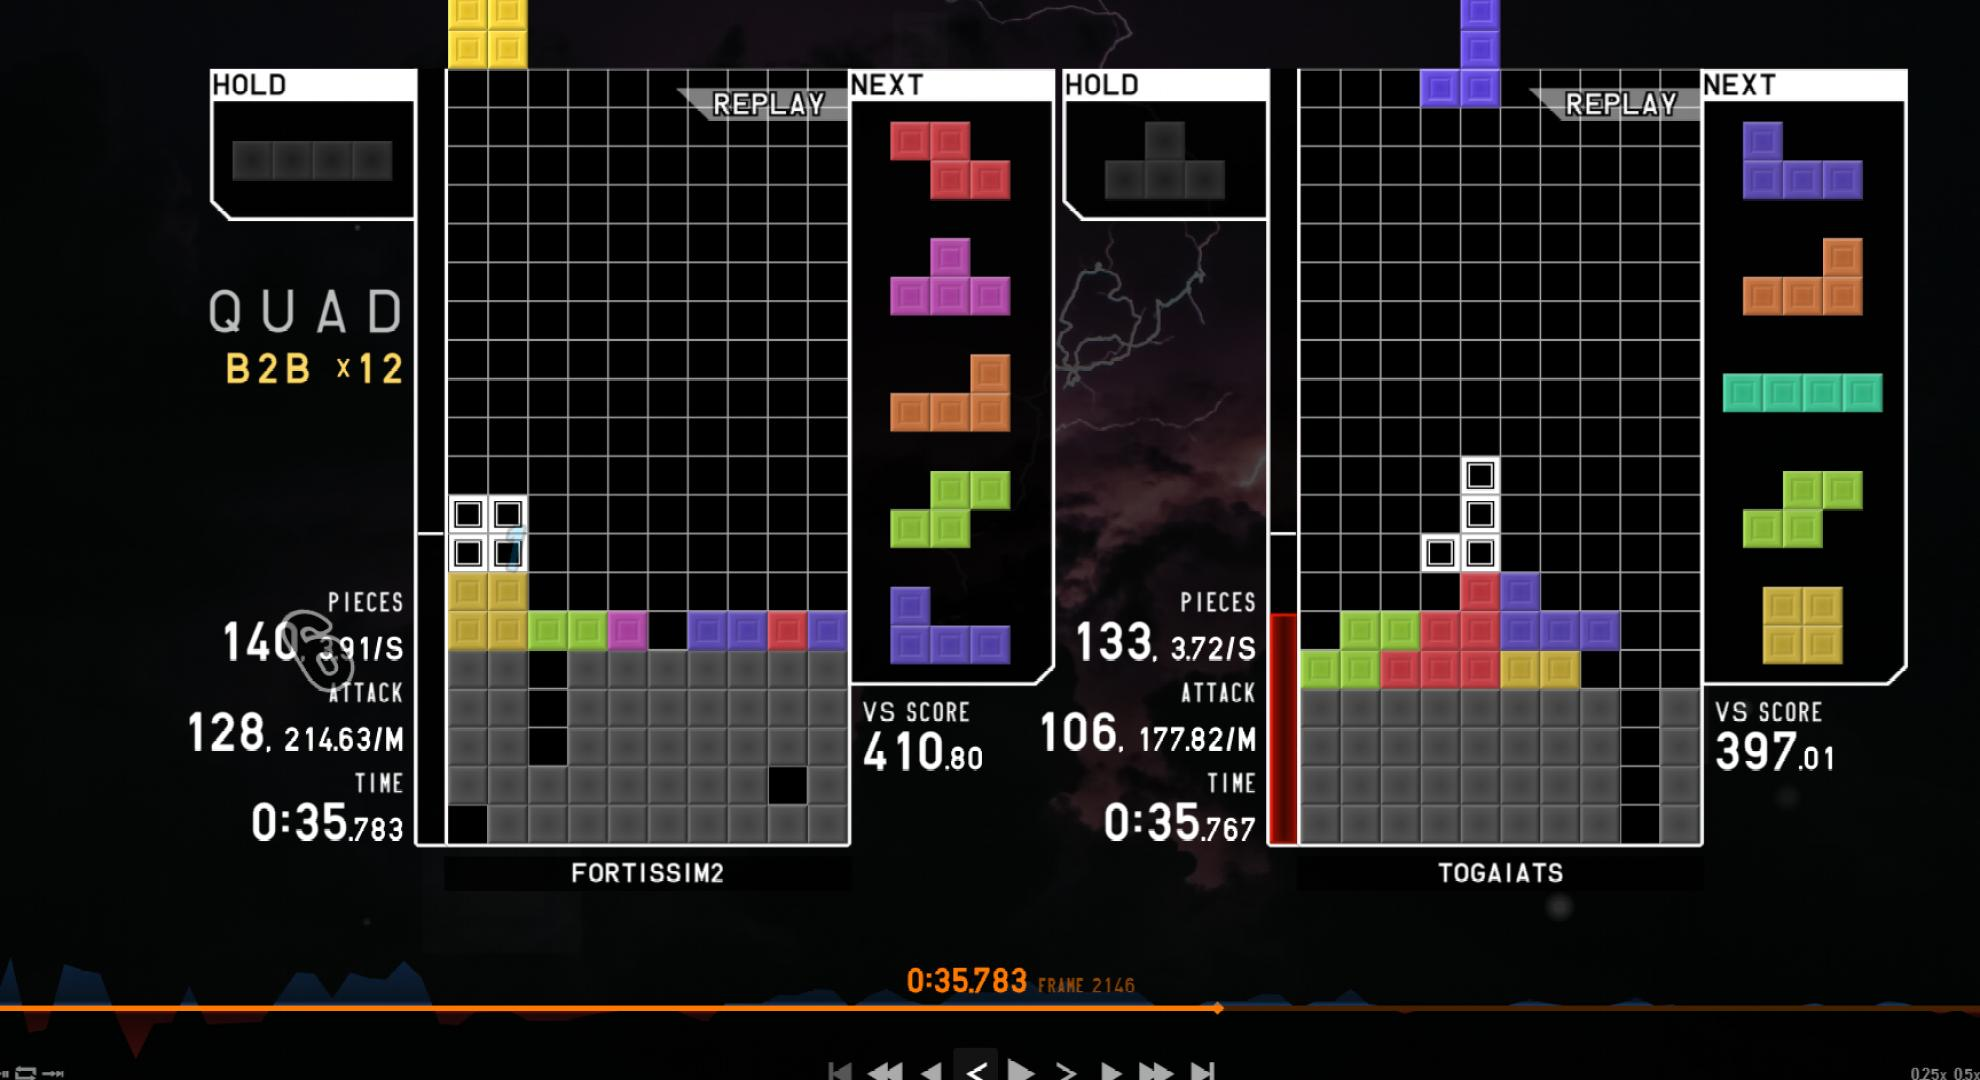tspin: (1576, 612, 1705, 732)
